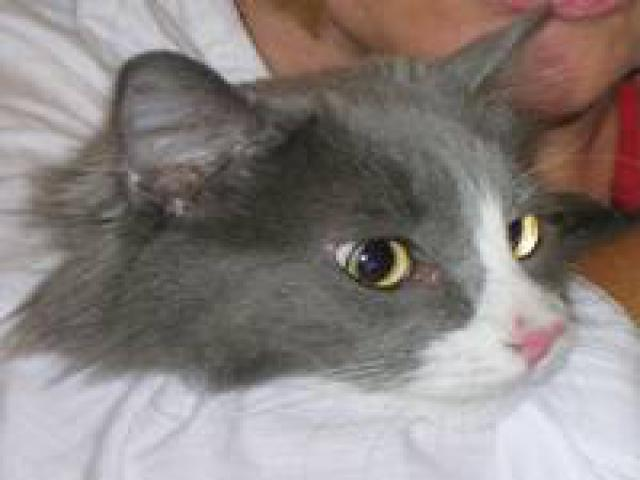cat: (43, 36, 635, 432)
